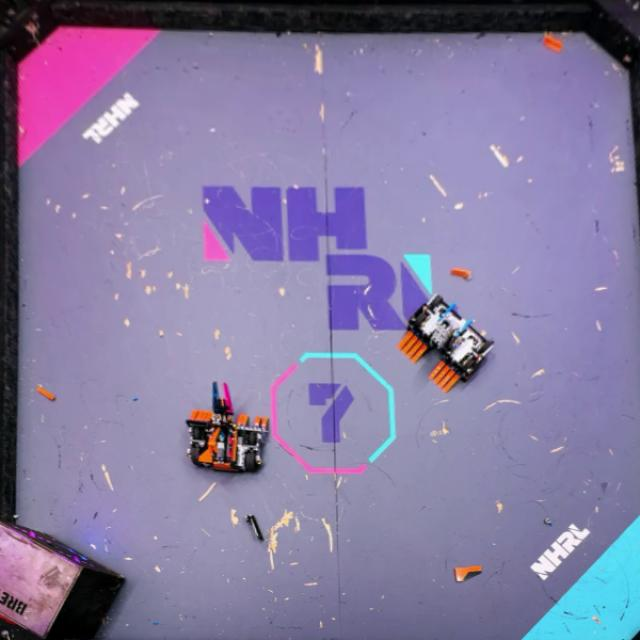housebot: (0, 521, 126, 640)
robot: (398, 294, 495, 394), (187, 381, 270, 472)
